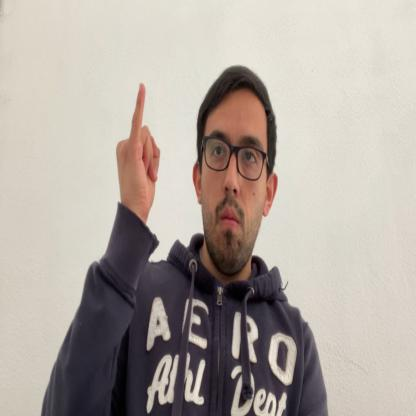I: (116, 81, 161, 221)
